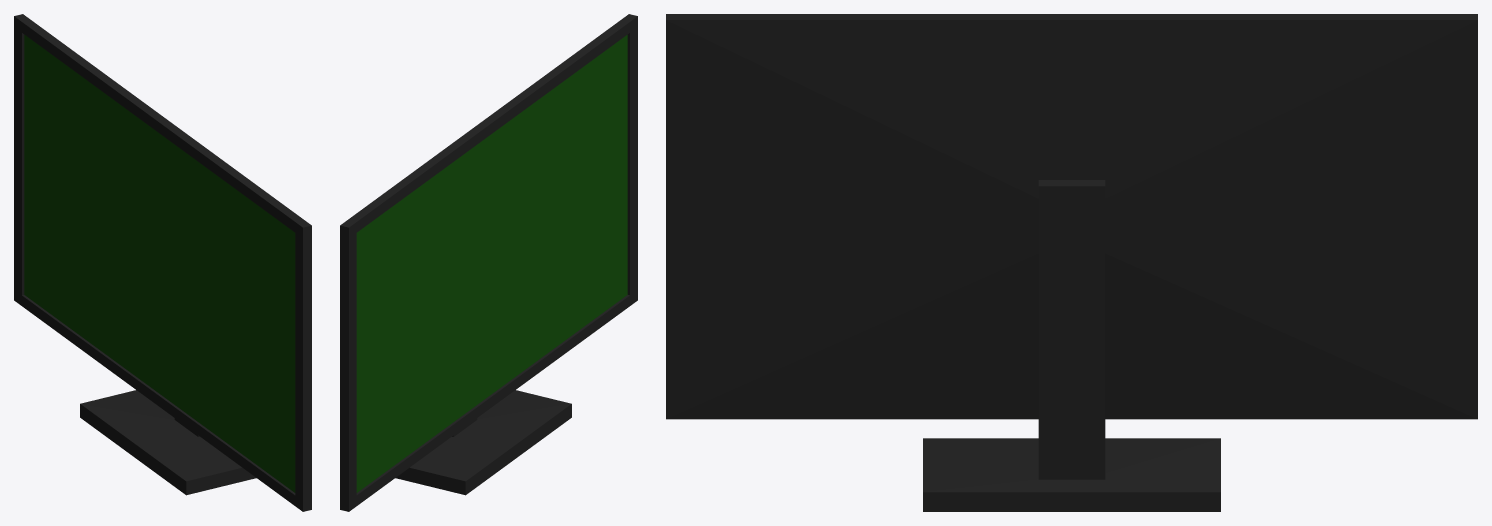
The picture shows the model from 3 angles, left to right: view 1: azimuth 30°, elevation 25°; view 2: azimuth 150°, elevation 25°; view 3: azimuth 270°, elevation 25°; orthographic projection. The views are drawn at different scales.
Visible parts, largest first — view 1: TV; view 2: TV; view 3: TV.
Part boxes in pixels (<box>): TV: <box>14,14,311,511</box>; TV: <box>340,14,637,511</box>; TV: <box>666,14,1477,511</box>.
Bounding box in the file's own units: 136 × 540 × 861.
